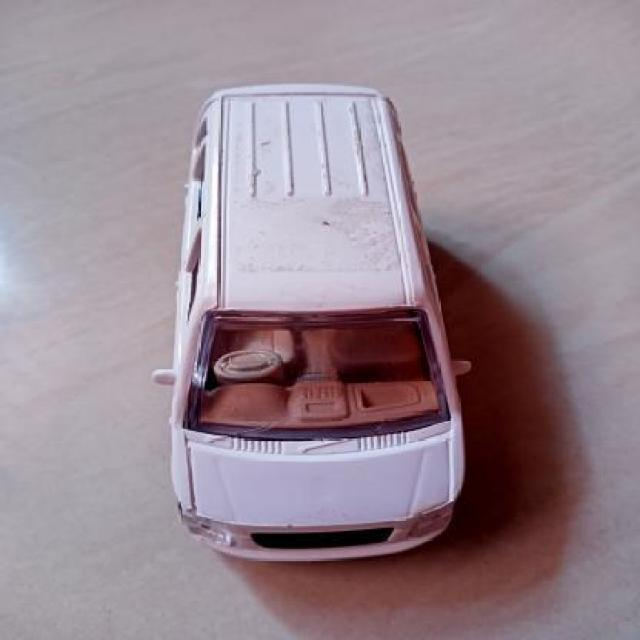vehicle: (154, 82, 483, 570)
